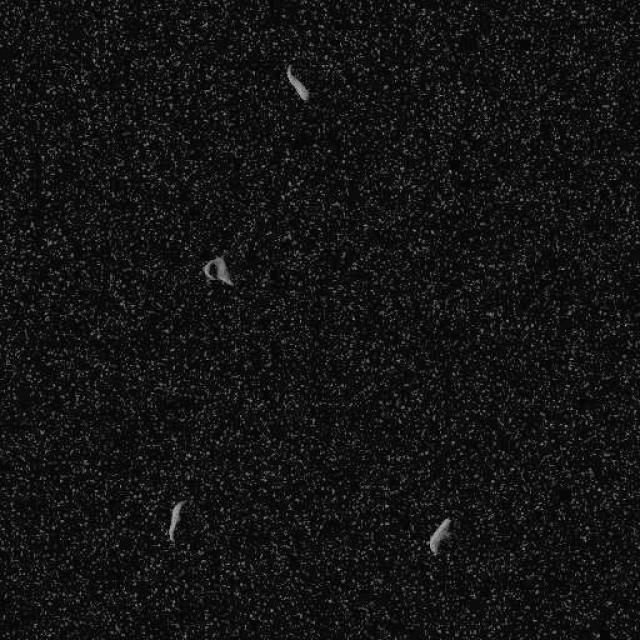D2: (200, 255, 234, 287), (285, 62, 310, 102), (428, 516, 452, 554), (166, 498, 185, 542)
